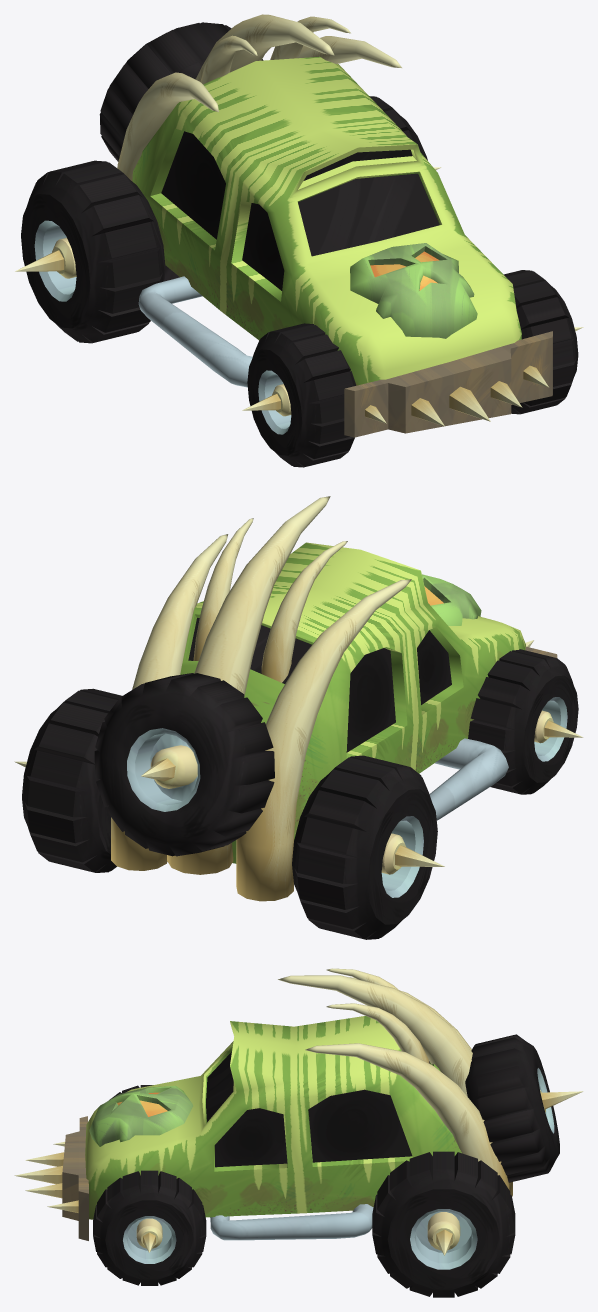
The model's file is Car.fbx.
The picture shows the model from 3 angles, top to bottom: view 1: azimuth 30°, elevation 25°; view 2: azimuth 150°, elevation 25°; view 3: azimuth 270°, elevation 25°; orthographic projection. The views are drawn at different scales.
Parts seen in each view (by area): view 1: Car Body, Car Back Tires, Car Front Tires; view 2: Car Body, Car Back Tires, Car Front Tires; view 3: Car Body, Car Back Tires, Car Front Tires.
Part boxes in pixels (left/top/right/bottom): Car Body: left=99, top=14, right=552, bottom=437; Car Back Tires: left=15, top=96, right=441, bottom=343; Car Front Tires: left=242, top=270, right=583, bottom=467; Car Body: left=94, top=496, right=557, bottom=901; Car Back Tires: left=14, top=688, right=444, bottom=939; Car Front Tires: left=468, top=649, right=583, bottom=794; Car Body: left=14, top=968, right=583, bottom=1240; Car Back Tires: left=372, top=1151, right=515, bottom=1297; Car Front Tires: left=93, top=1085, right=206, bottom=1285.
Bounding box in the file's own units: 3209 × 2312 × 4576.
